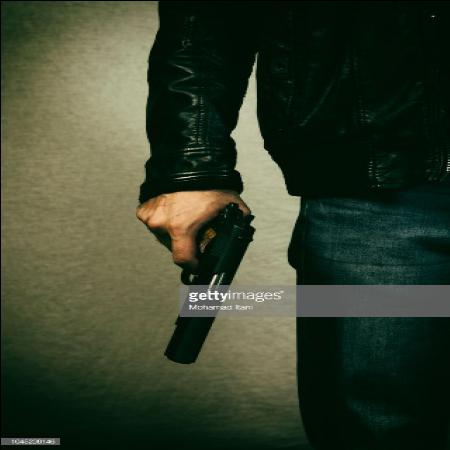Pistol: (156, 197, 255, 363)
